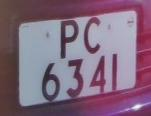1: (108, 49, 123, 99)
3: (62, 58, 88, 103)
4: (85, 53, 110, 98)
6: (38, 61, 63, 104)
C: (81, 14, 105, 57)
P: (56, 14, 81, 62)
